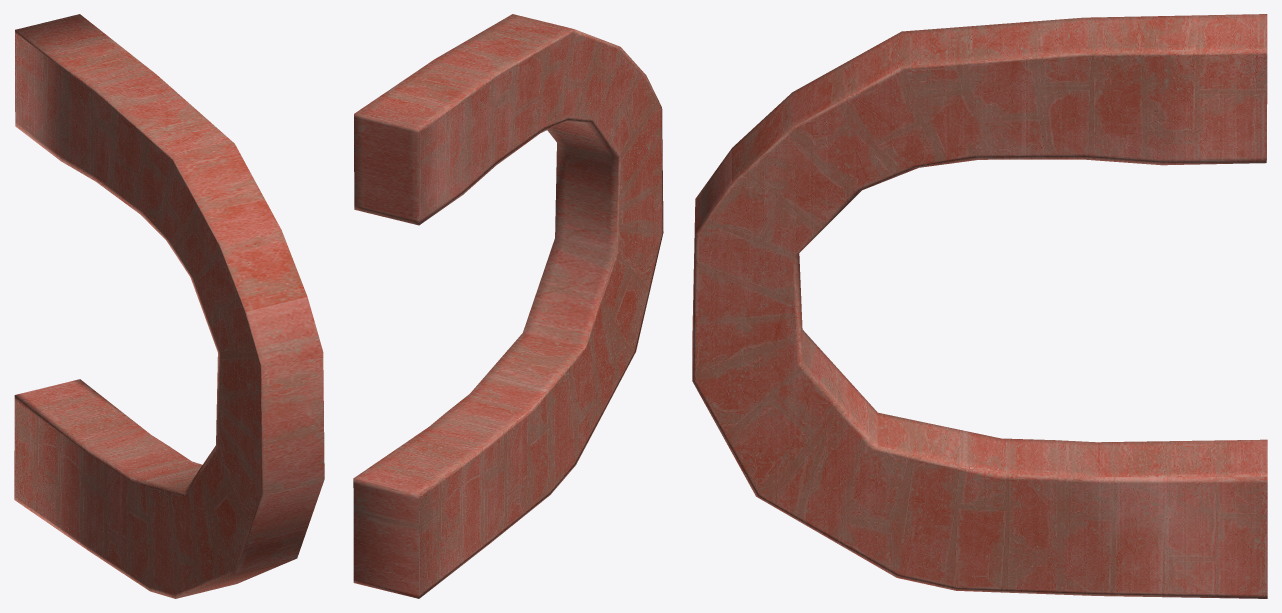
Rendered from Curve_Gate_lo5.fbx.
3 views of the same model, side by side, from view 1: azimuth 30°, elevation 25°; view 2: azimuth 150°, elevation 25°; view 3: azimuth 270°, elevation 25° (orthographic). The views are drawn at different scales.
Parts seen in each view (by area): view 1: Curve_Gate_lo5; view 2: Curve_Gate_lo5; view 3: Curve_Gate_lo5.
Part boxes in pixels (left/top/right/bottom): Curve_Gate_lo5: left=14, top=14, right=324, bottom=598; Curve_Gate_lo5: left=353, top=14, right=663, bottom=598; Curve_Gate_lo5: left=692, top=14, right=1267, bottom=598.
Size of the model in its own units: 38.18 by 261 by 248.
